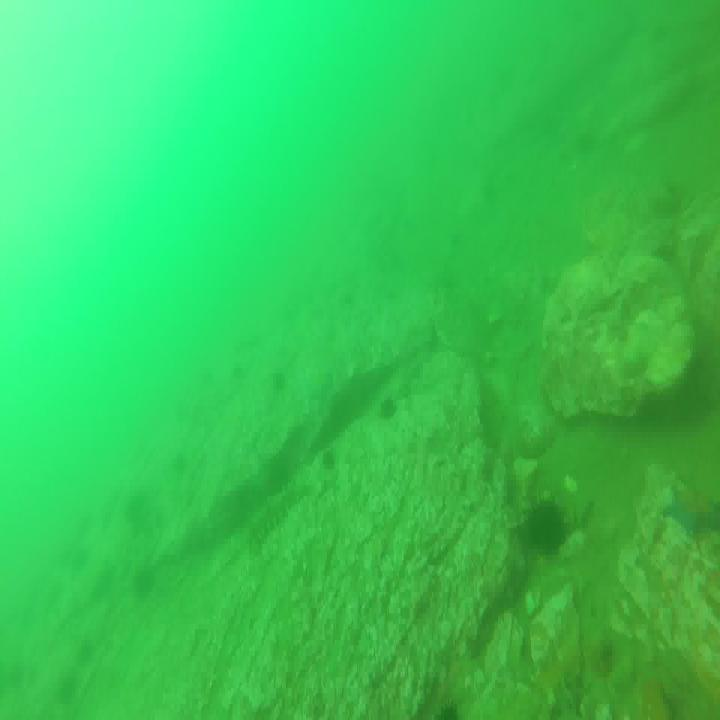echinus: (526, 499, 569, 557), (121, 492, 151, 537), (132, 564, 154, 600), (433, 696, 462, 720), (378, 397, 397, 423), (270, 371, 288, 395), (322, 452, 340, 473)
holothurian: (252, 482, 302, 546)
starfish: (660, 484, 720, 538)
